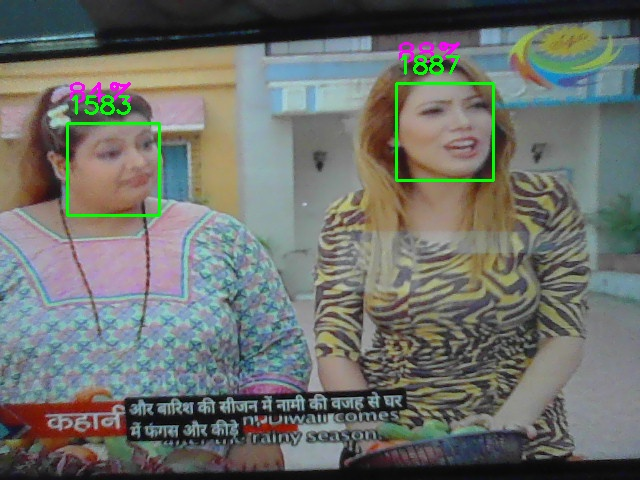fake: (396, 83, 494, 181), (67, 123, 160, 216)
